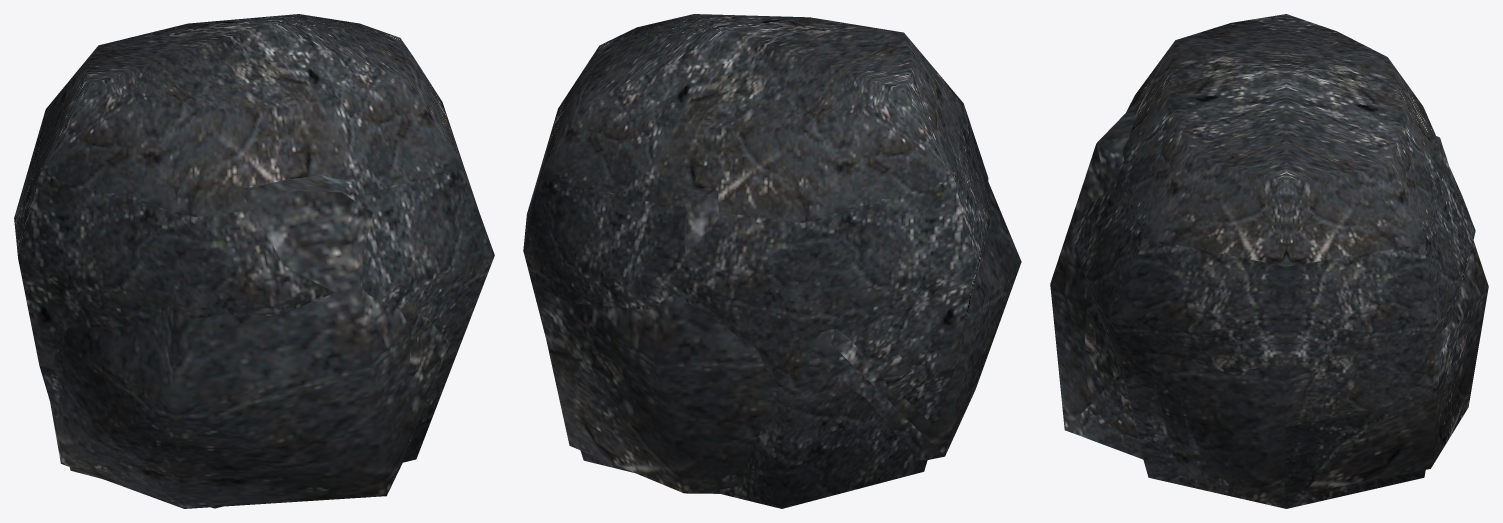
File: boulder2.obj
3 renders of one model, left to right at view 1: azimuth 30°, elevation 25°; view 2: azimuth 150°, elevation 25°; view 3: azimuth 270°, elevation 25°, orthographic. The views are drawn at different scales.
Parts seen in each view (by area): view 1: em29-0001-0; view 2: em29-0001-0; view 3: em29-0001-0.
Boxes of the visible parts, x1,y1,x2,y2 form: em29-0001-0: (14,14,494,508); em29-0001-0: (523,14,1021,508); em29-0001-0: (1050,14,1488,508).
Size of the model in its own units: 193 by 193 by 181.
Materials: 1 (1 with a texture image).
